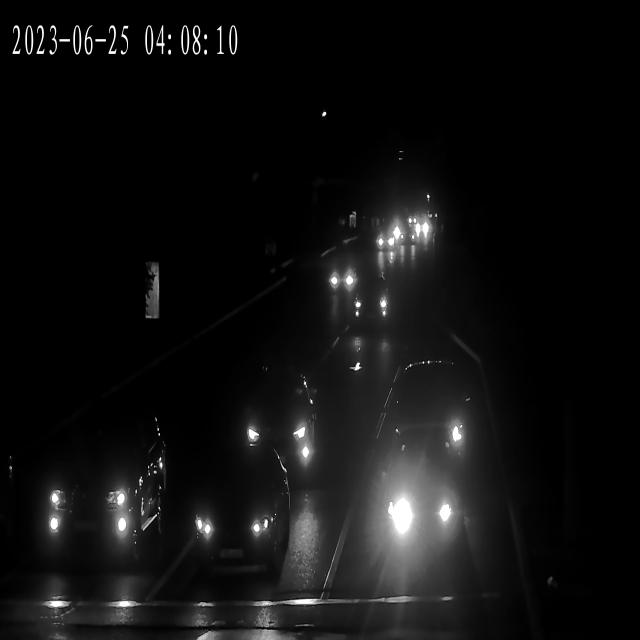Car: (22, 421, 162, 563), (170, 456, 287, 576), (230, 375, 322, 466), (396, 362, 466, 466), (378, 467, 457, 548), (351, 282, 391, 324), (325, 260, 360, 296), (374, 232, 397, 253), (372, 229, 395, 250), (395, 230, 416, 248), (412, 220, 433, 236)
